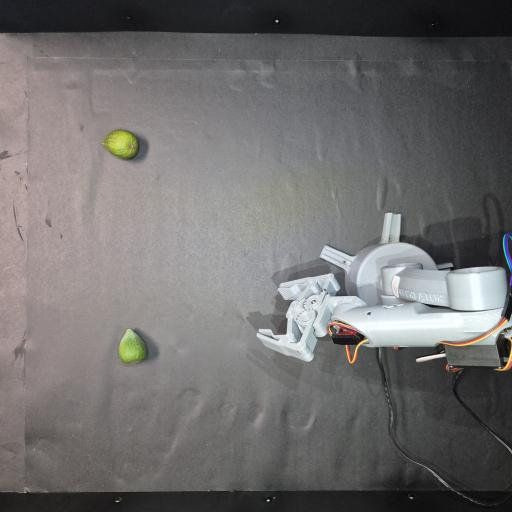higo: (119, 329, 148, 363)
